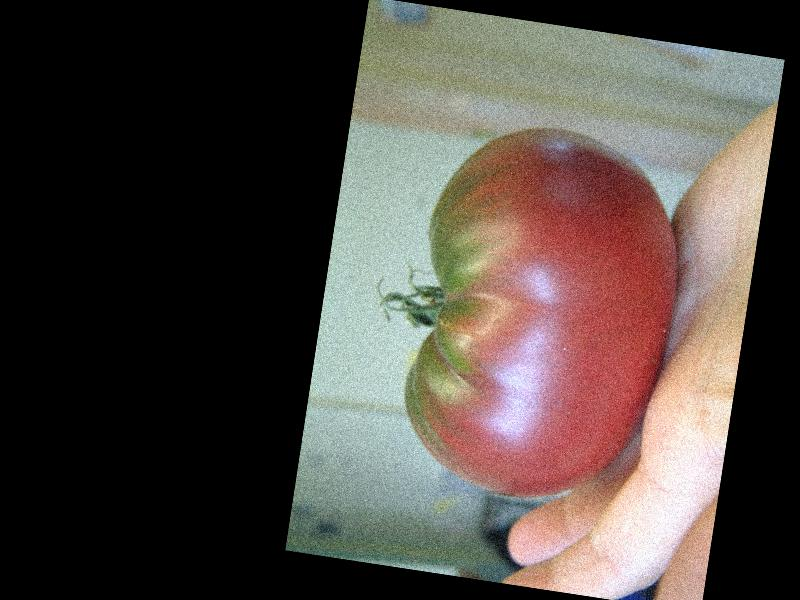Tomato: (390, 112, 697, 515)
